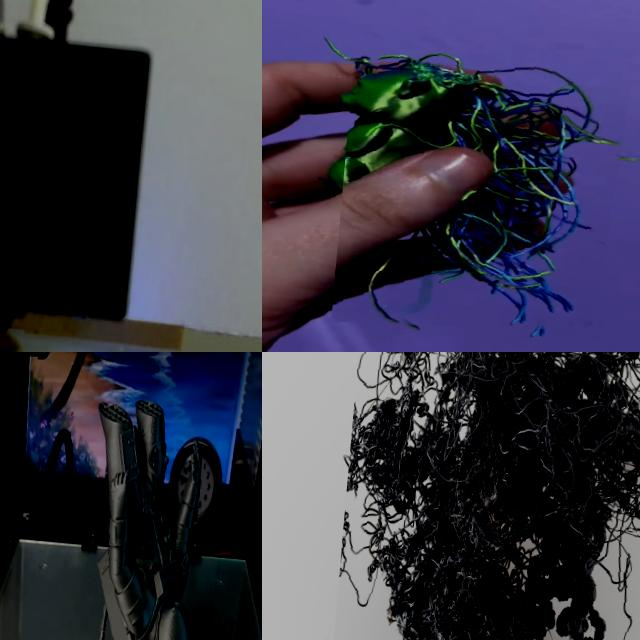spaghetti: (330, 8, 640, 347), (346, 352, 640, 640), (0, 323, 24, 352)
